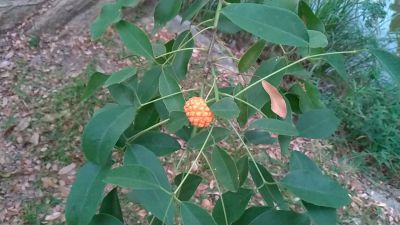eggs: (185, 92, 215, 130)
